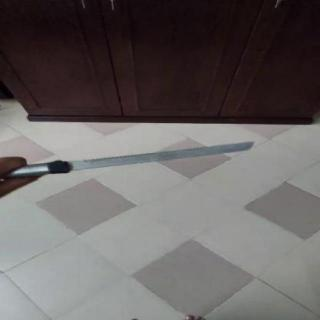knife: (35, 138, 271, 175)
